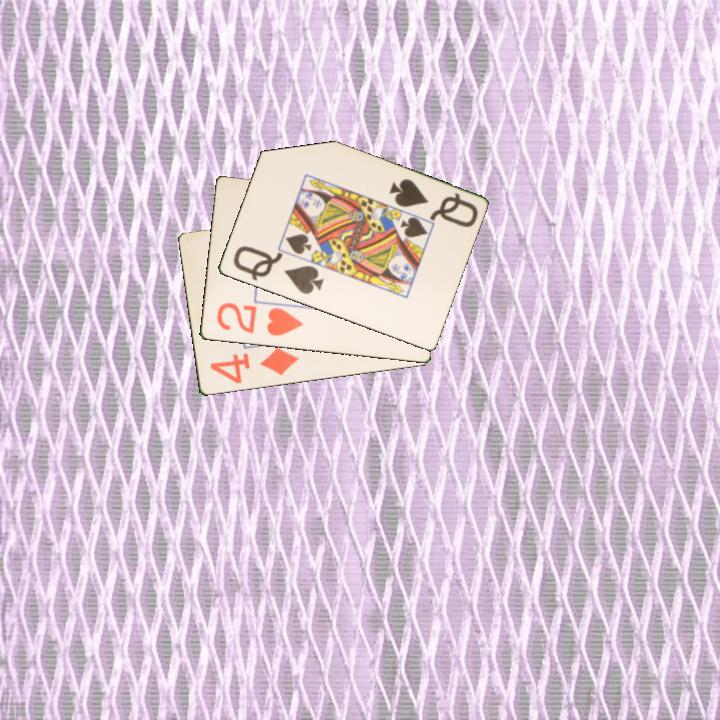2h: (213, 299, 306, 339)
4d: (206, 344, 301, 387)
Qs: (385, 175, 481, 231), (229, 242, 326, 297)
